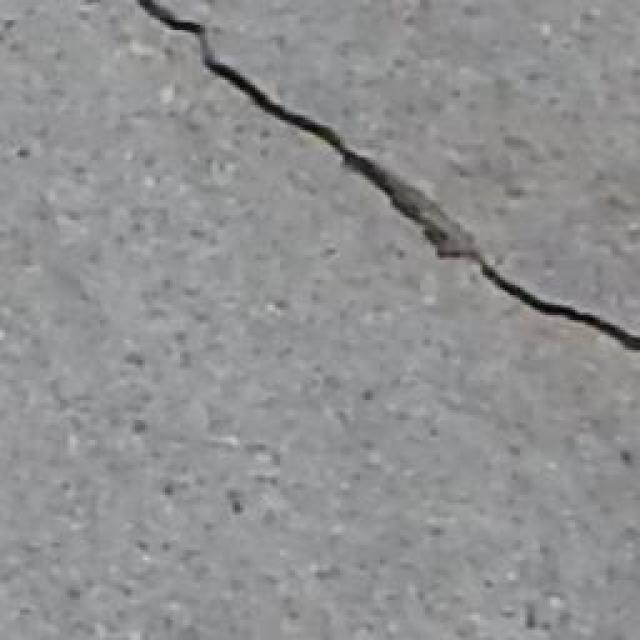concrete-crack: (137, 0, 638, 366)
